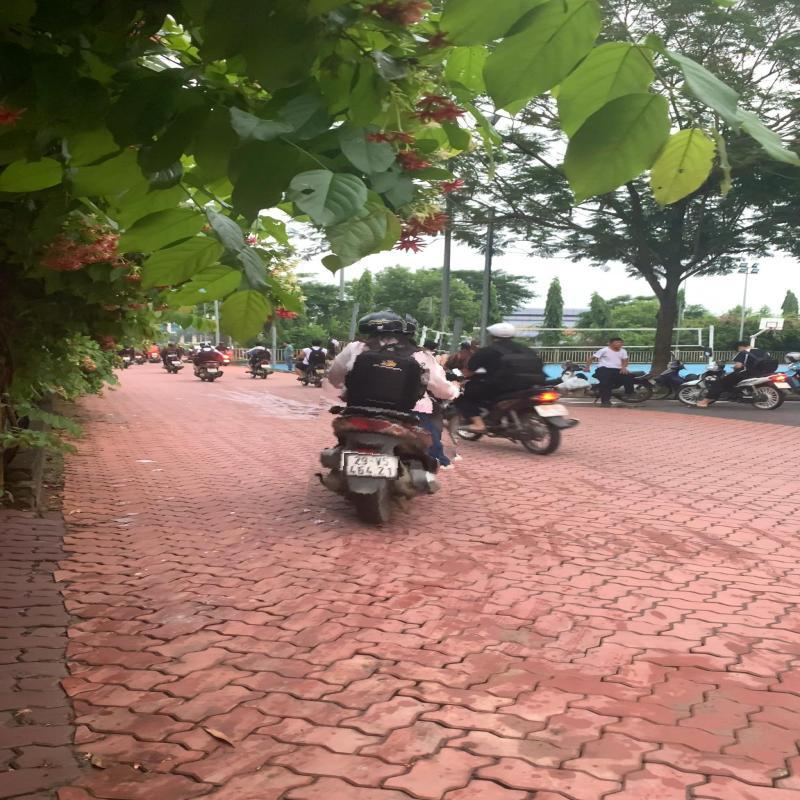helmet: (356, 310, 408, 333)
licenseplate: (344, 454, 400, 480)
motorcyclist: (311, 304, 467, 532)
